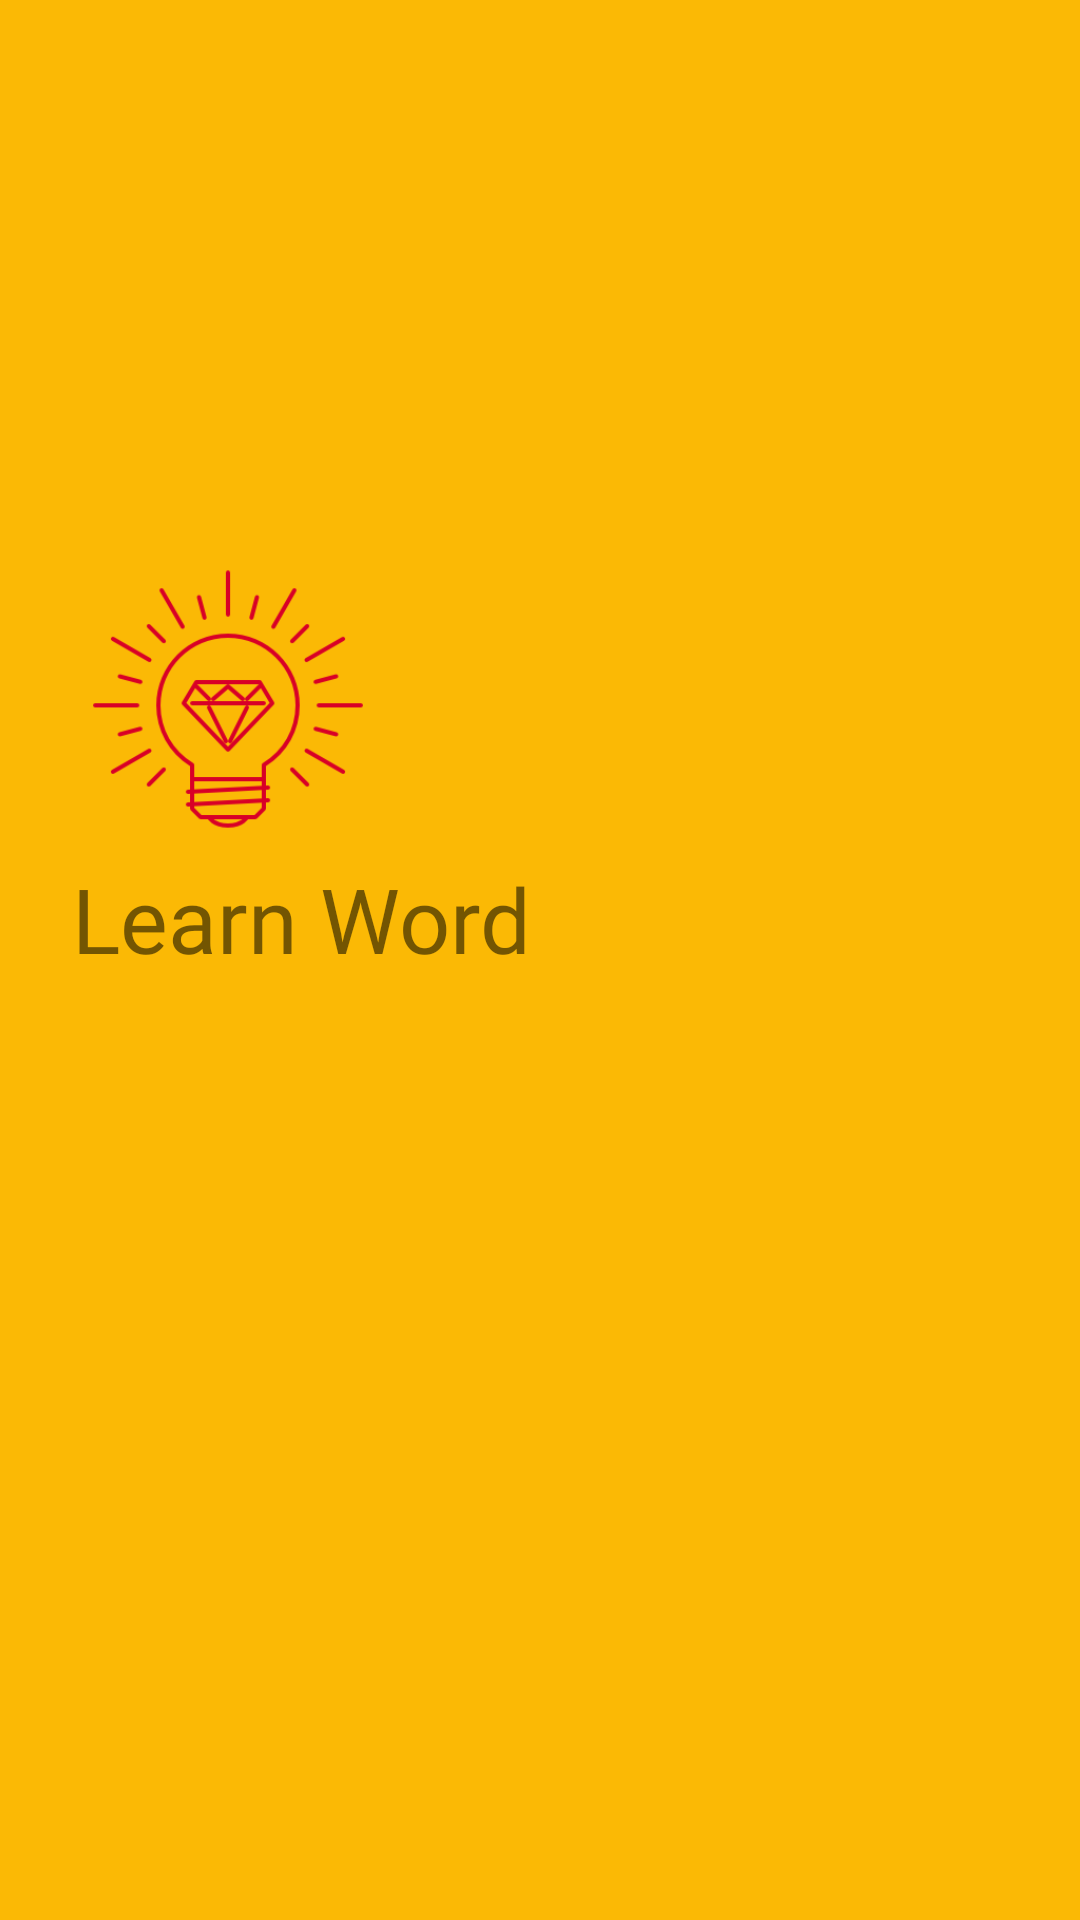

Icons on this 1080px x 1920px Android screen, each with the point to tap as point (x, y):
bulb: point (228, 699)
